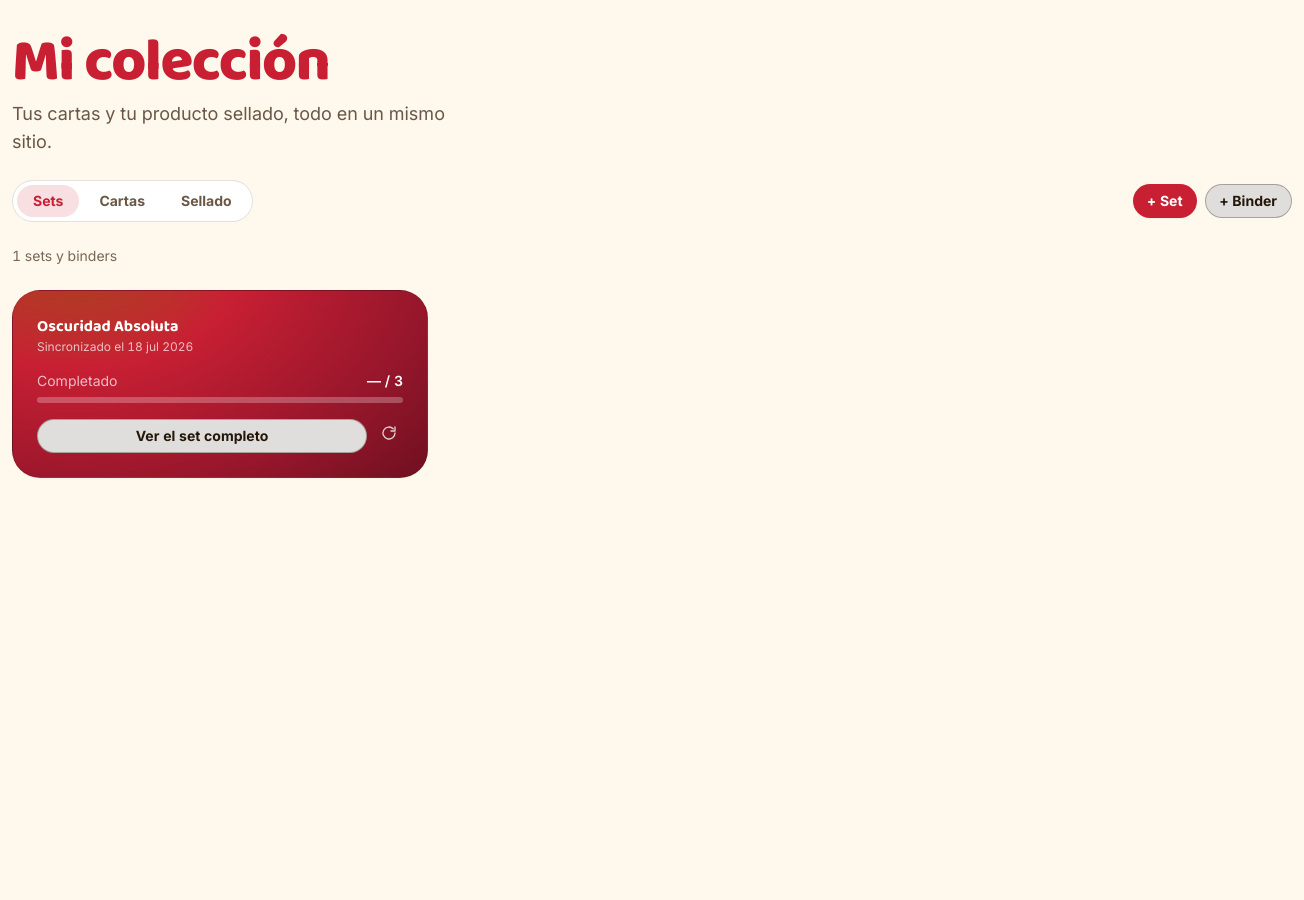
Test case: ColeccionScreen › las pestañas no llevan el total en la etiqueta (sin sitio con el botón de binder) — se ve dentro de cada una
Expected: the button "Sets" is shown, [17,185,79,217]
Expected: the text "1 sets y binders" is shown, [12,247,117,264]
Click the button "Cartas": click(122, 201) [83,185,161,217]
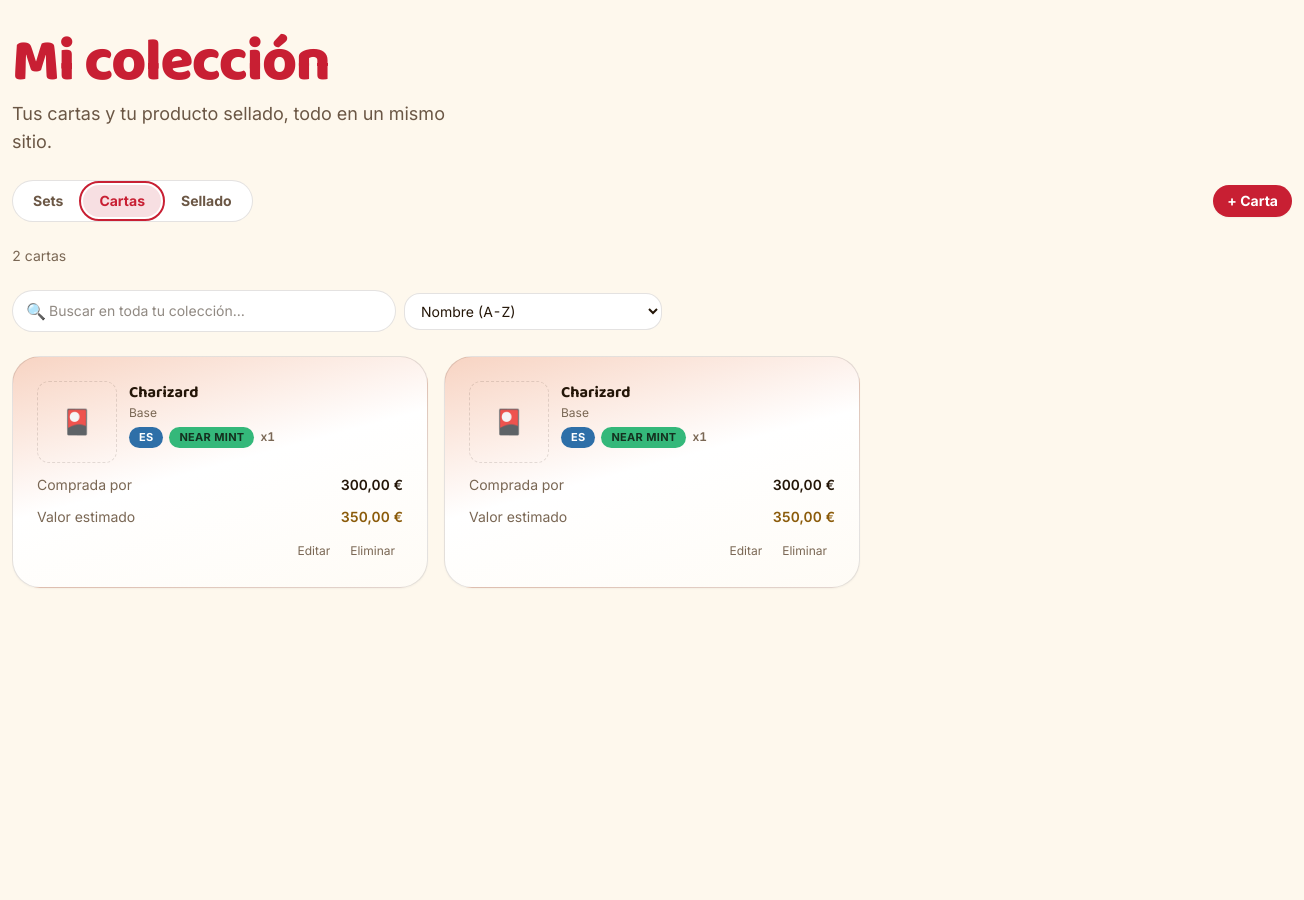
Now the text "2 cartas" is shown, box [12,247,66,264]
Click the button "Sellado": click(206, 201) [165,185,248,217]
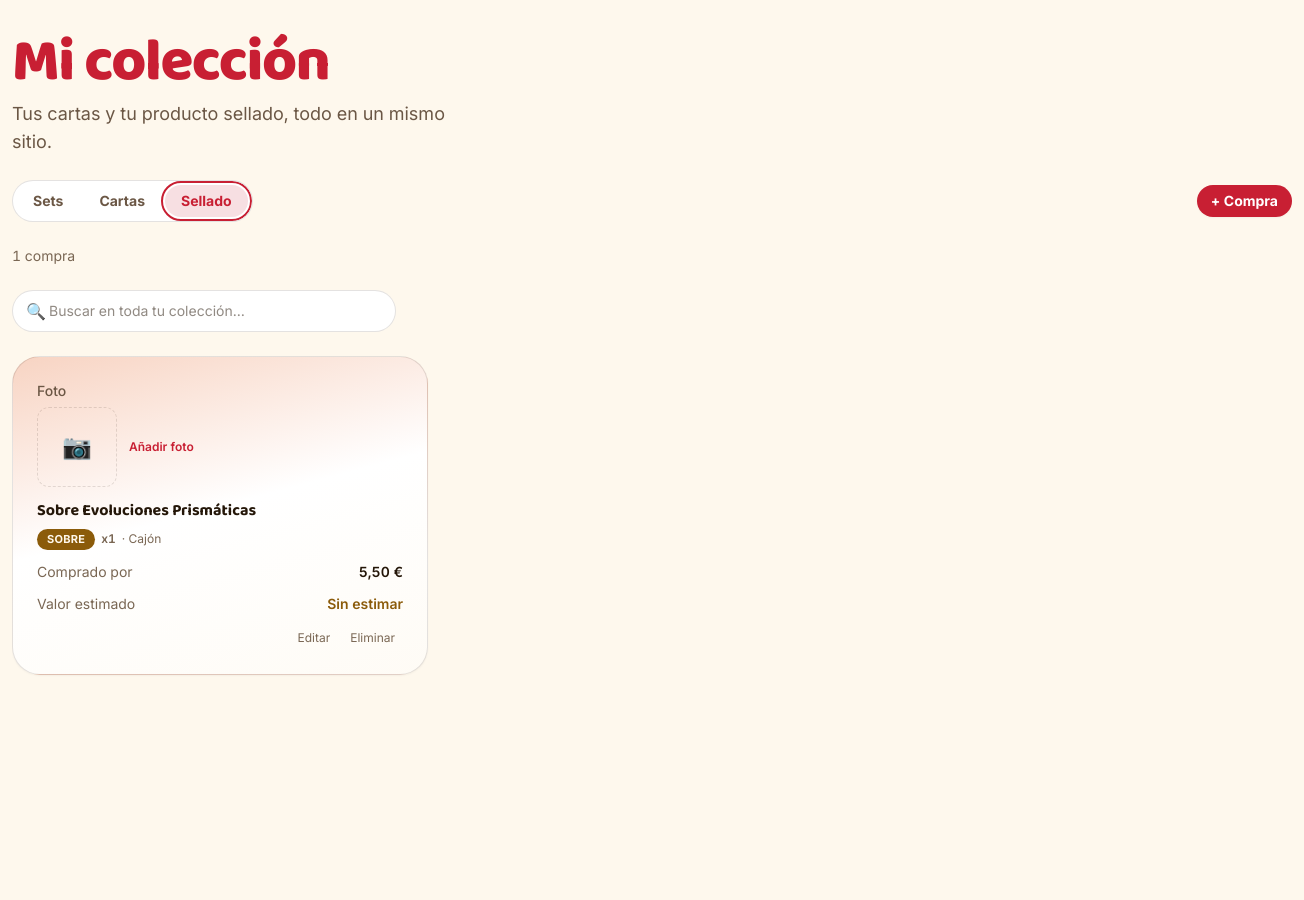
Now the text "1 compra" is shown, box [12,247,75,264]
